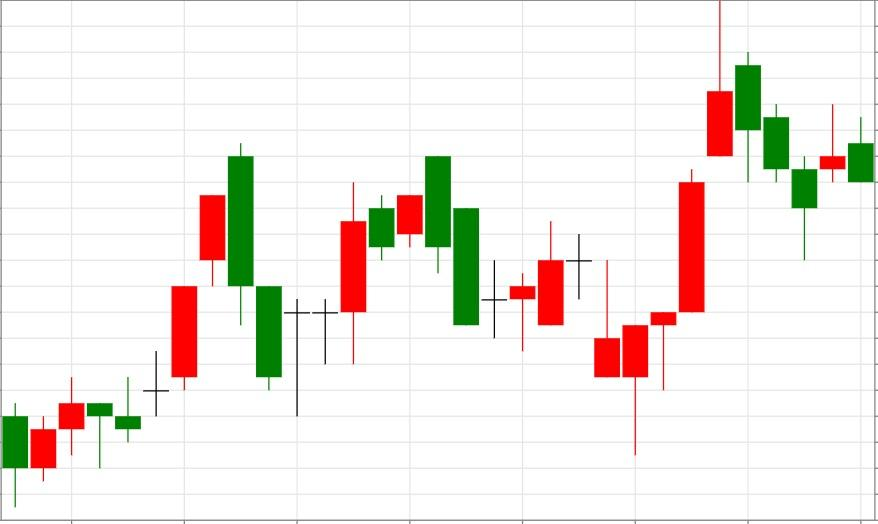bearish_engulfing_fall: (283, 155, 452, 417)
inverse_hammer_rise: (537, 220, 621, 379)
